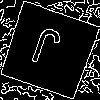J: (24, 25, 64, 77)
